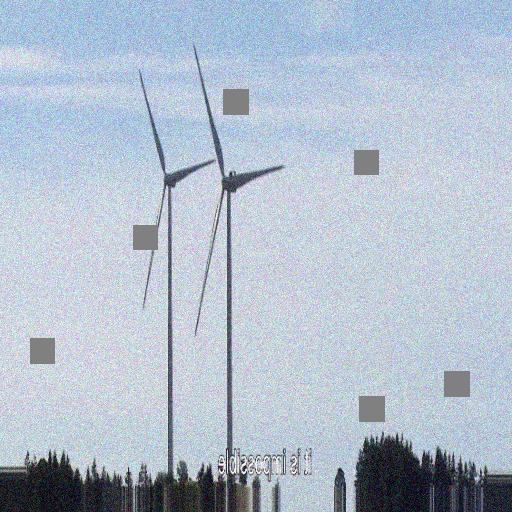wind turbine: (191, 39, 286, 490), (136, 69, 215, 482)
